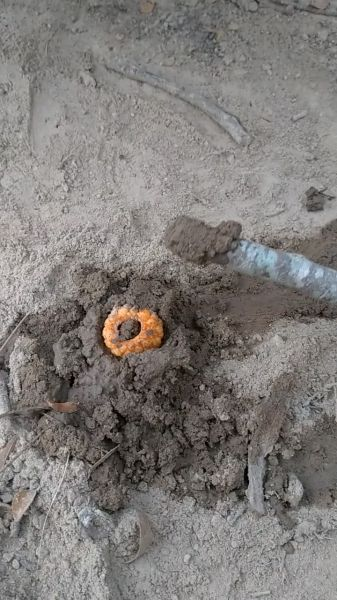eggs: (94, 297, 171, 364)
